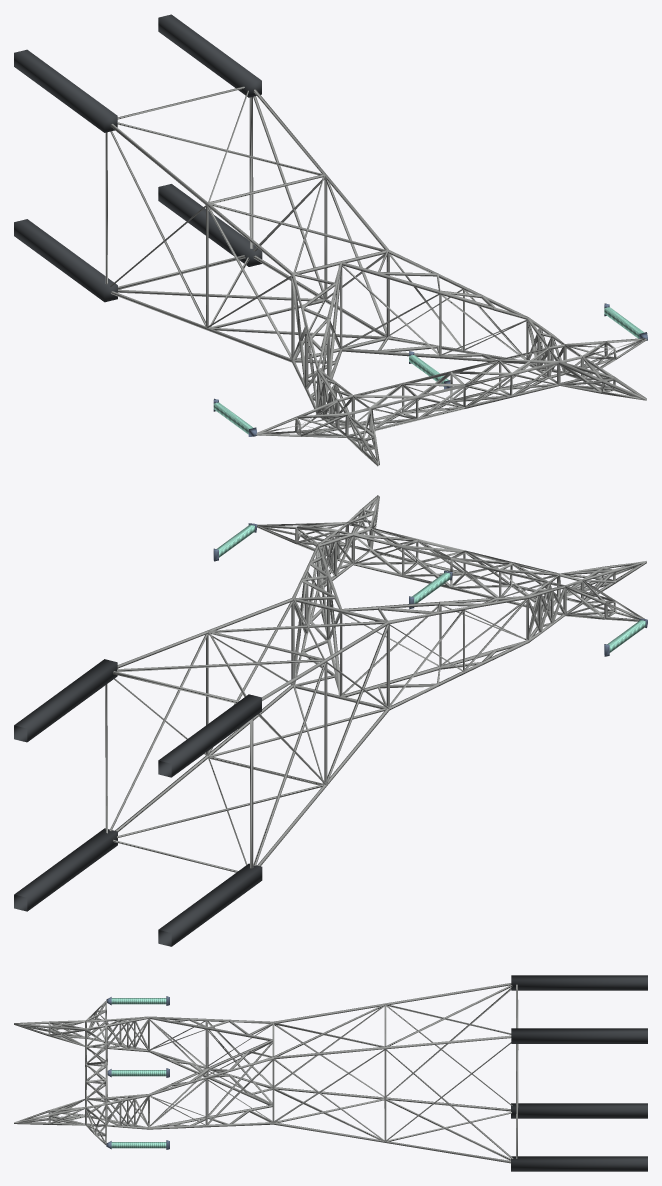
File: pylon_large.obj
The picture shows the model from 3 angles, top to bottom: view 1: azimuth 30°, elevation 25°; view 2: azimuth 150°, elevation 25°; view 3: azimuth 270°, elevation 25°; orthographic projection. The views are drawn at different scales.
Visible parts, largest first — view 1: Pylon_Large; view 2: Pylon_Large; view 3: Pylon_Large.
Boxes of the visible parts, <box> form: Pylon_Large: <box>14,14,647,466</box>; Pylon_Large: <box>14,495,647,946</box>; Pylon_Large: <box>14,975,647,1171</box>.
Size of the model in its own units: 27.75 by 12.2 by 50.65.
